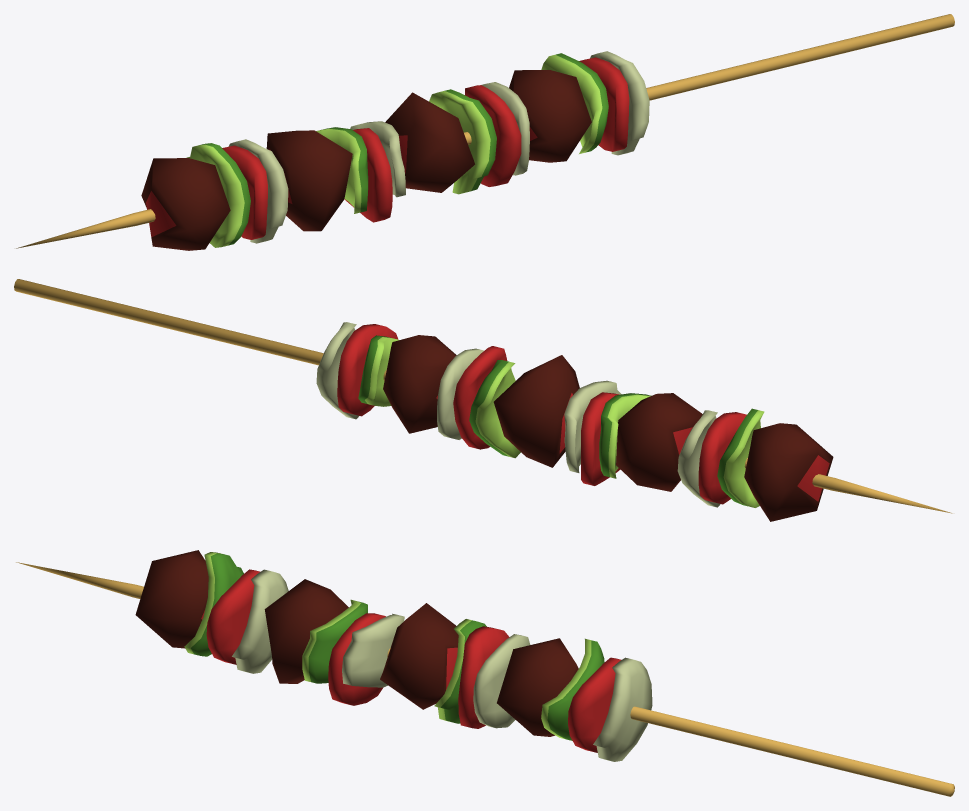
File: food.glb
3 views of the same model, one above another, from view 1: azimuth 30°, elevation 25°; view 2: azimuth 150°, elevation 25°; view 3: azimuth 330°, elevation 25° (orthographic).
Visible parts, largest first — view 1: node-0; view 2: node-0; view 3: node-0.
Part boxes in pixels (left/top/right/bottom): node-0: left=16, top=14, right=954, bottom=250; node-0: left=14, top=279, right=952, bottom=521; node-0: left=16, top=550, right=954, bottom=796.
Size of the model in its own units: 118 by 12.7 by 12.77.
